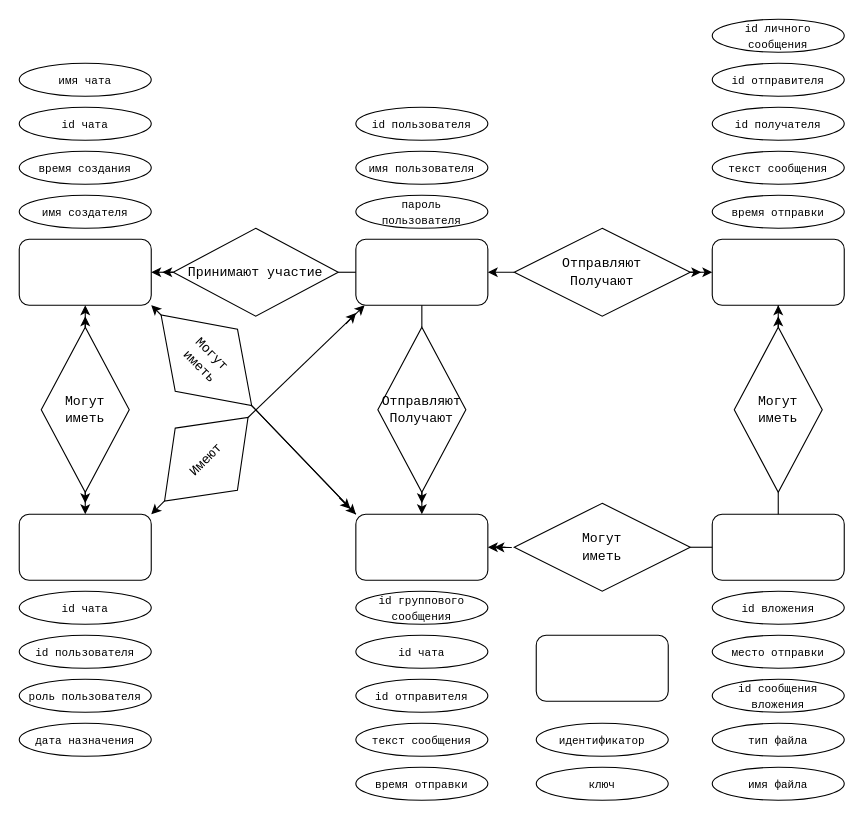
This 864x820 diagram has some shape labels left out. Each missing label, with the box of its shape:
Вложения: (711, 513, 844, 580)
Групповые сообщения: (355, 513, 488, 580)
Групповые чаты: (18, 238, 151, 305)
Личные сообщения: (711, 238, 844, 305)
Пользователи: (355, 238, 488, 305)
Роли групповых чатов: (18, 513, 151, 580)
Сессии: (535, 634, 668, 701)
